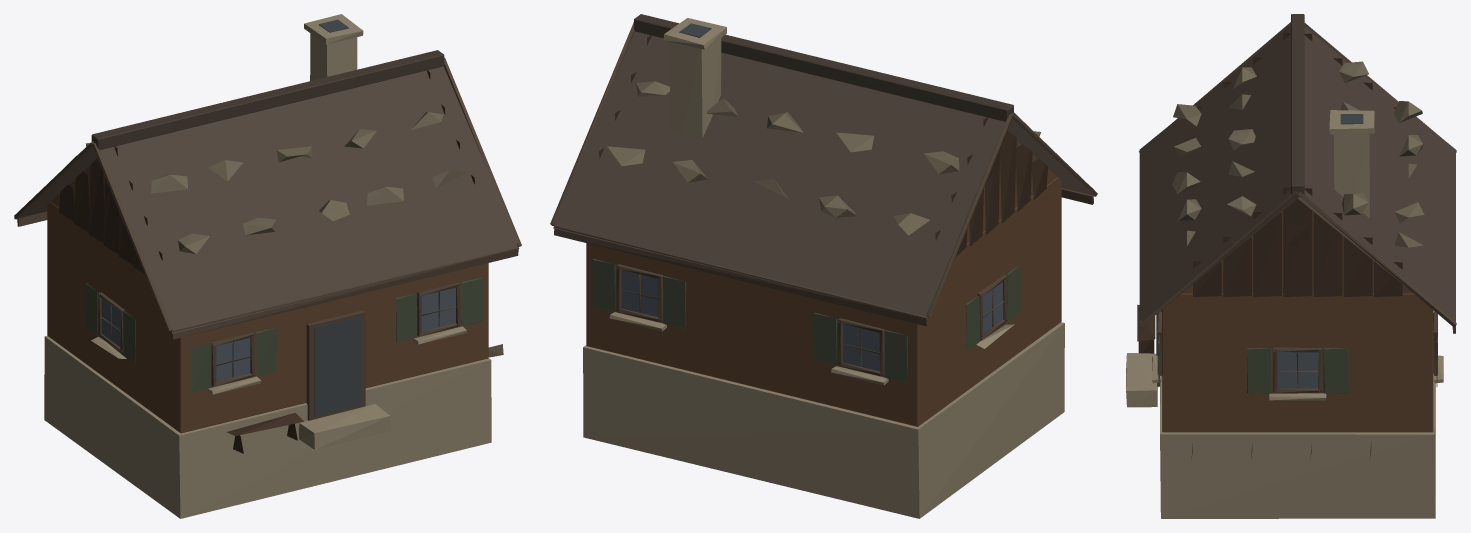
File: alpine-hut-lod1.glb
3 views of the same model, side by side, from view 1: azimuth 30°, elevation 25°; view 2: azimuth 150°, elevation 25°; view 3: azimuth 270°, elevation 25° (orthographic). The views are drawn at different scales.
Size of the model in its own units: 9.32 by 9 by 7.32.
